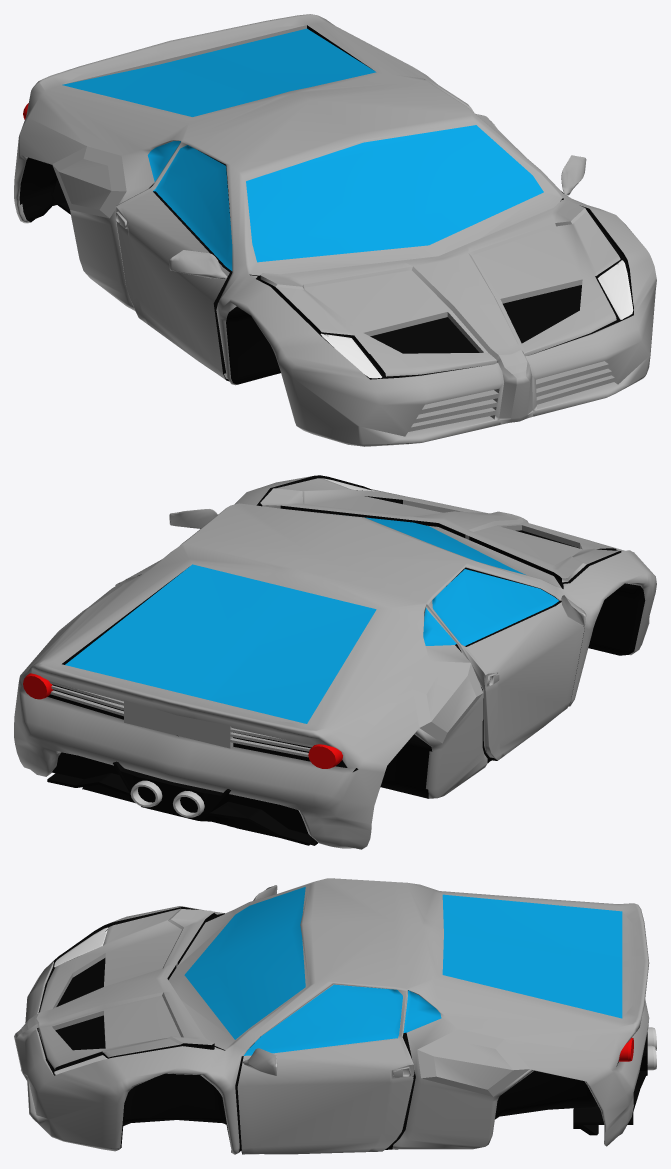
The model's file is body_p1.fbx.
3 views of the same model, one above another, from view 1: azimuth 30°, elevation 25°; view 2: azimuth 150°, elevation 25°; view 3: azimuth 270°, elevation 25° (orthographic). The views are drawn at different scales.
Visible parts, largest first — view 1: polySurface21; view 2: polySurface21; view 3: polySurface21.
Part boxes in pixels (x1,y1,x2,y2): polySurface21: [14, 14, 656, 446]; polySurface21: [14, 475, 656, 849]; polySurface21: [14, 878, 656, 1154].
Size of the model in its own units: 3.19 by 1.34 by 4.77.
